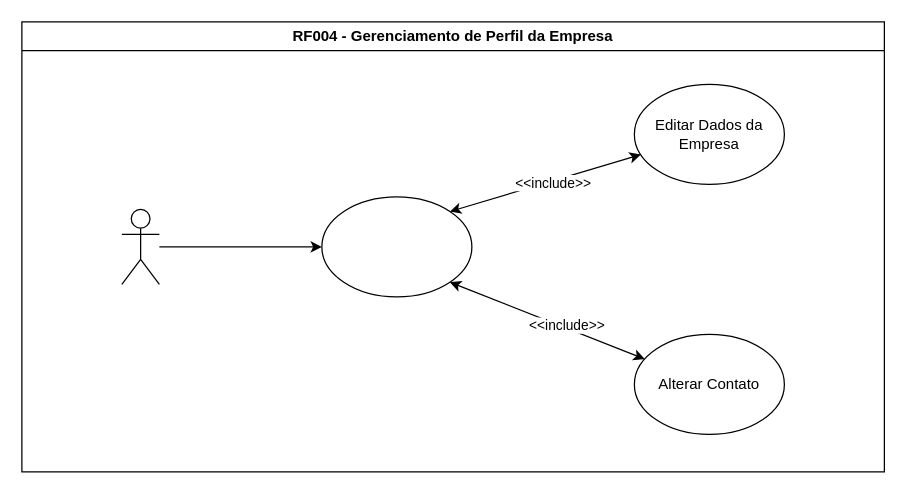
Image size: 906x494. Some labels were removed from this diagram. Here are the shapes that lost their labels. From the top down, the centre of each, then its label:
(140,246): Empresa
(396,246): Gerenciar Perfil da Empresa
